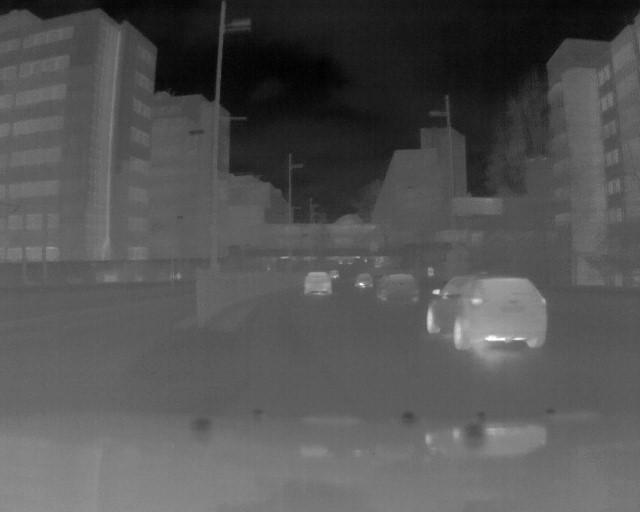car: (425, 274, 547, 349), (379, 269, 420, 304), (301, 270, 334, 297), (353, 268, 372, 292)
